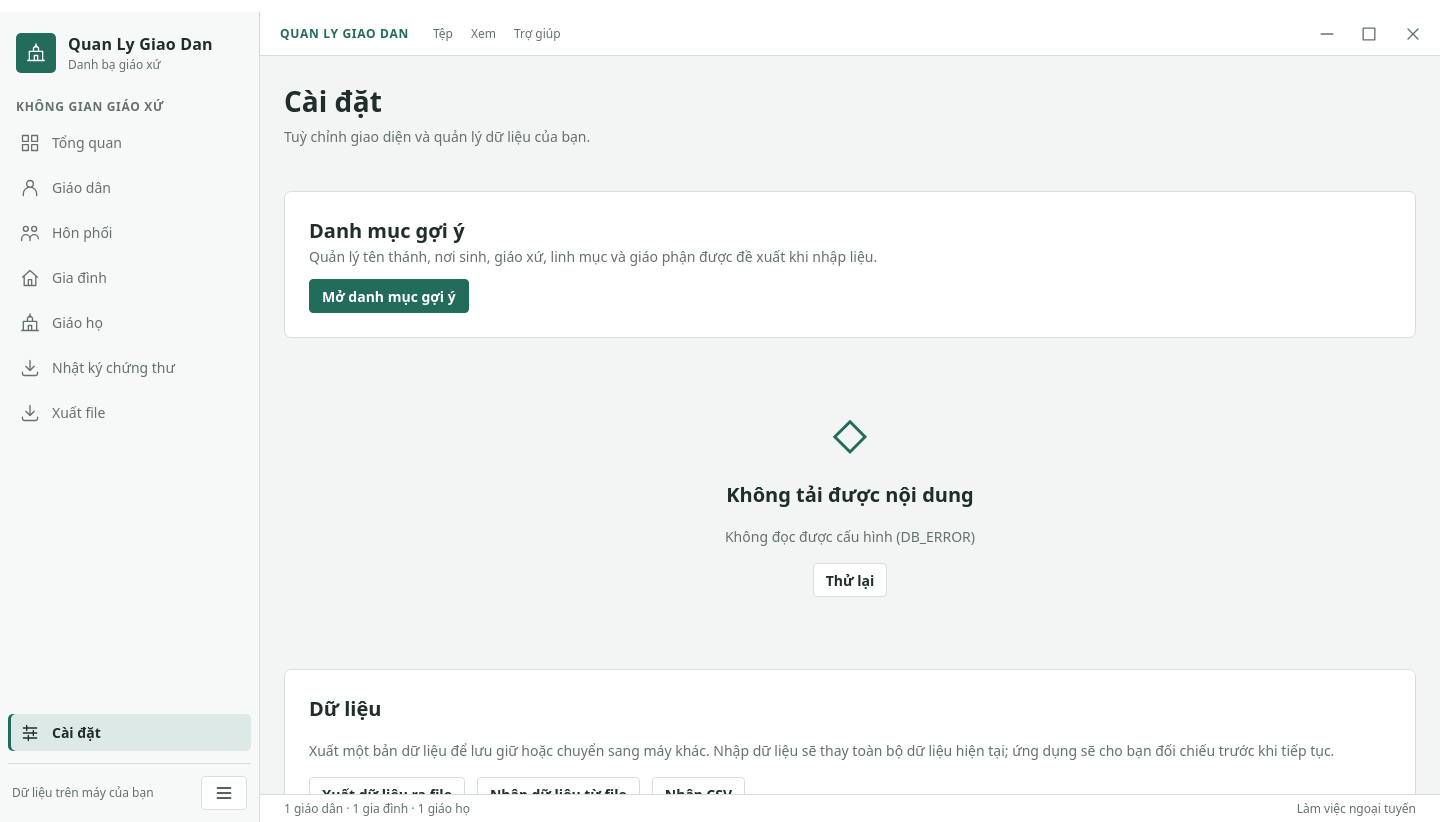
Scenario: Khung ứng dụng qua API preload › lỗi đọc cấu hình có thể thử lại, sidebar vẫn dùng được
The image size is (1440, 822).
Expected: the message "◇ Không tải được nội dung Không đọc được cấu hình (DB_ERROR) Thử lại" is shown, x1=725 y1=412 x2=975 y2=597
Click the button "Thử lại" at (850, 580), box x1=813 y1=563 x2=887 y2=597
(page scrolled)
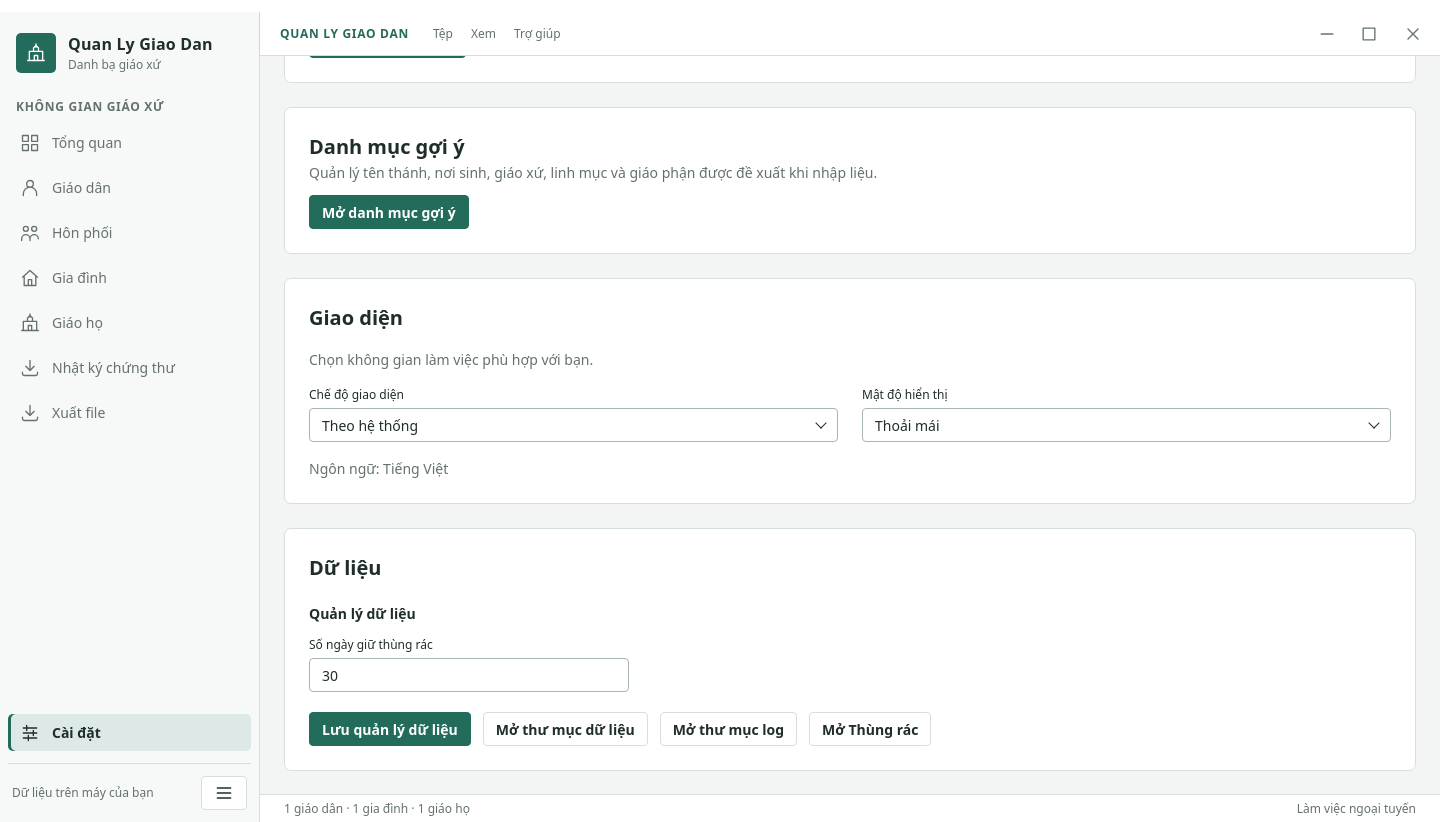
Expected: the dropdown labelled "Chế độ giao diện" is shown, x1=309 y1=408 x2=838 y2=442
